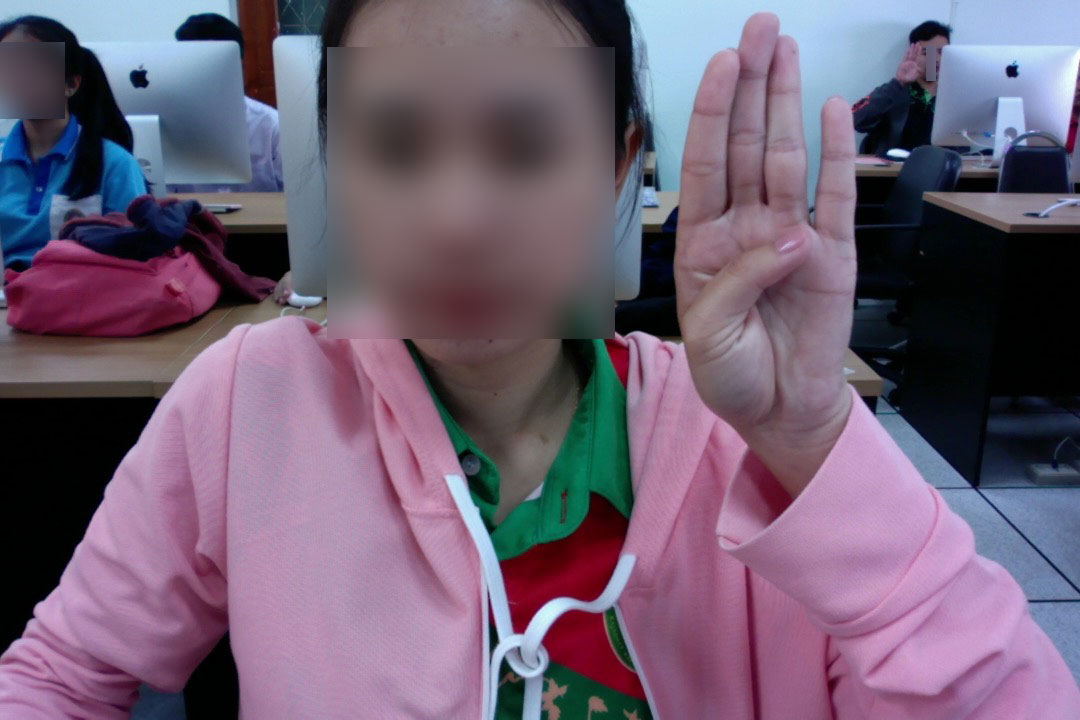bor: (670, 6, 870, 428)
